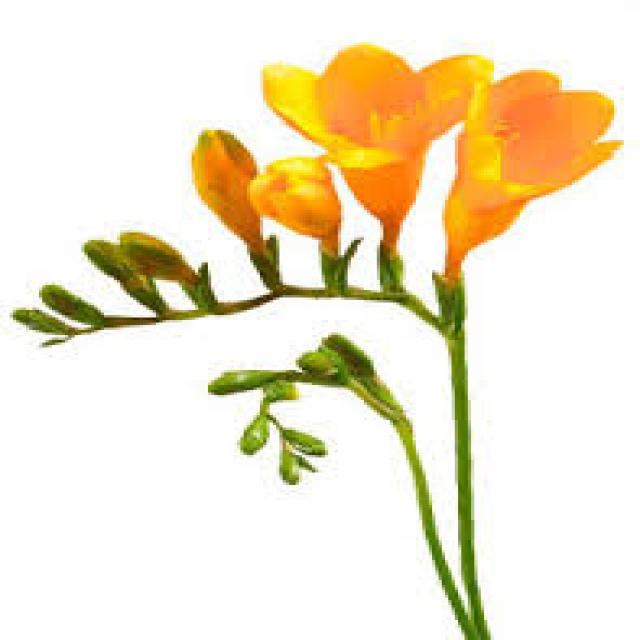freesia: (7, 4, 633, 357), (257, 40, 484, 312), (449, 48, 629, 304), (184, 120, 361, 300)
